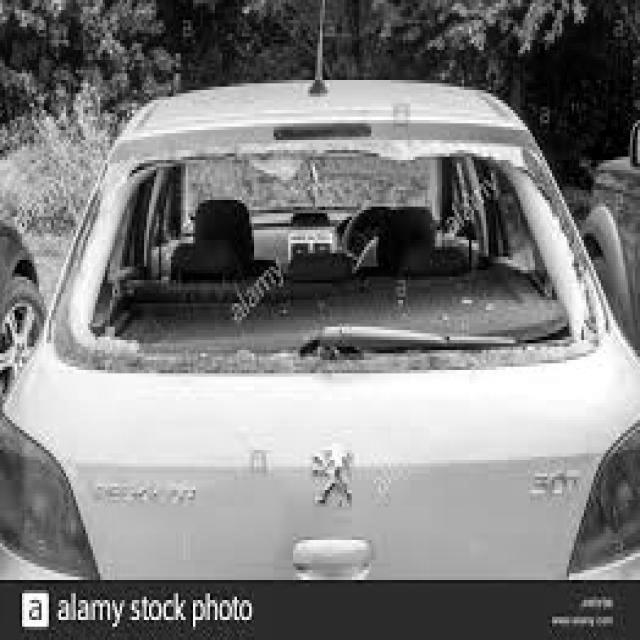Rear-windscreen-Damage: (78, 137, 591, 387)
